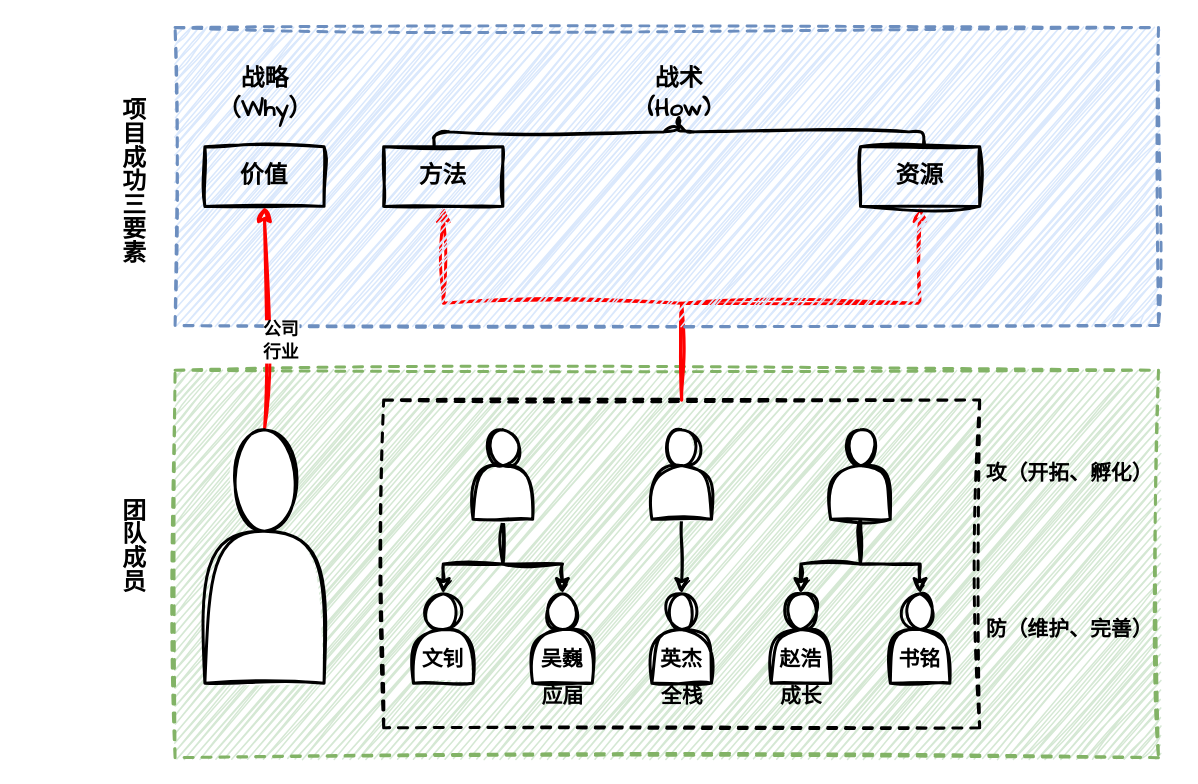
Some shapes in this 1198 by 784 pixel diagram are drawn without their labels. Here are the shapes that lost their labels. From the top down, the centre of each, then its label:
point 502,474: 建新
point 681,474: 会彬
point 859,474: 李利
point 264,556: 云杰
